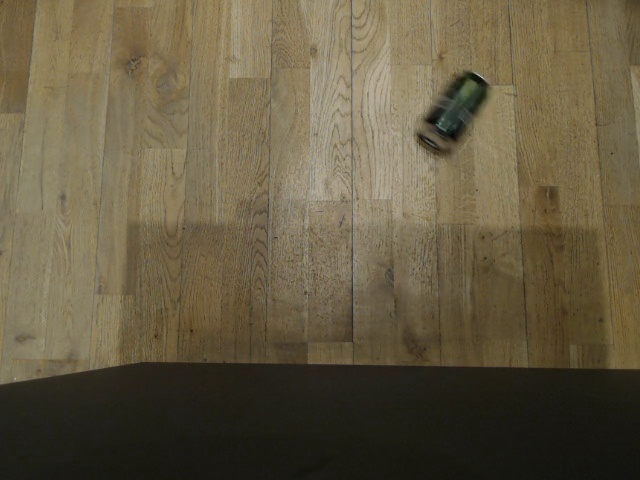beer: (409, 70, 490, 152)
